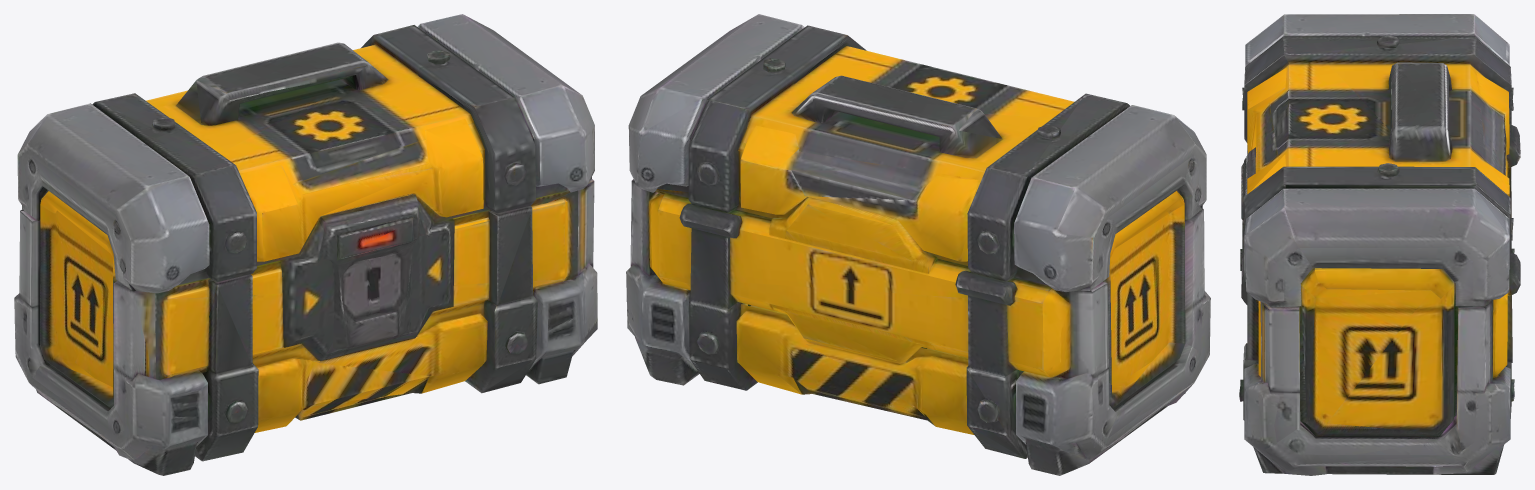
The model's file is big_chest.glb.
3 renders of one model, left to right at view 1: azimuth 30°, elevation 25°; view 2: azimuth 150°, elevation 25°; view 3: azimuth 270°, elevation 25°, orthographic. The views are drawn at different scales.
Parts seen in each view (by area): view 1: mesh_node; view 2: mesh_node; view 3: mesh_node.
Boxes of the visible parts, <box> form: mesh_node: <box>14,14,597,475</box>; mesh_node: <box>626,14,1210,475</box>; mesh_node: <box>1239,14,1520,475</box>.
Bounding box in the file's own units: 1 × 0.6132 × 0.5488.
1 material, 1 textured.
